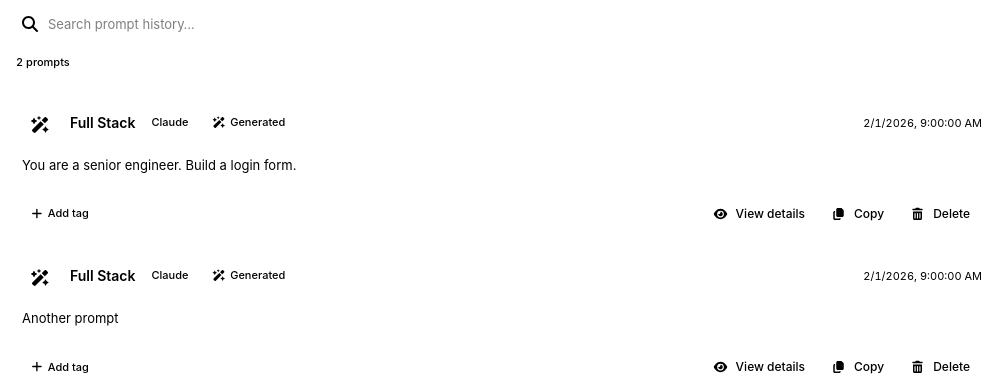
PromptHistoryPage delete › asks before deleting and then tells the bridge, and the entry goes away
Click the 1st button "Delete" at (940, 214), box [898, 200, 982, 228]
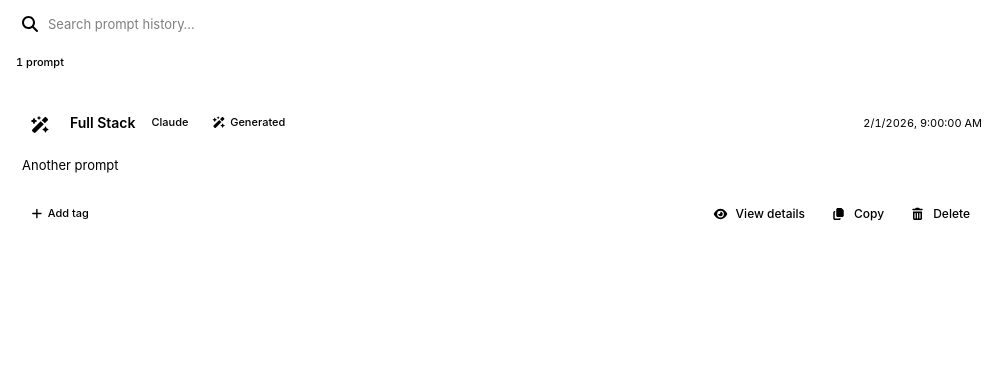
Expected: the text "Another prompt" is shown, [22, 156, 119, 172]
Expected: the text "You are a senior engineer. Build a login form." is gone
